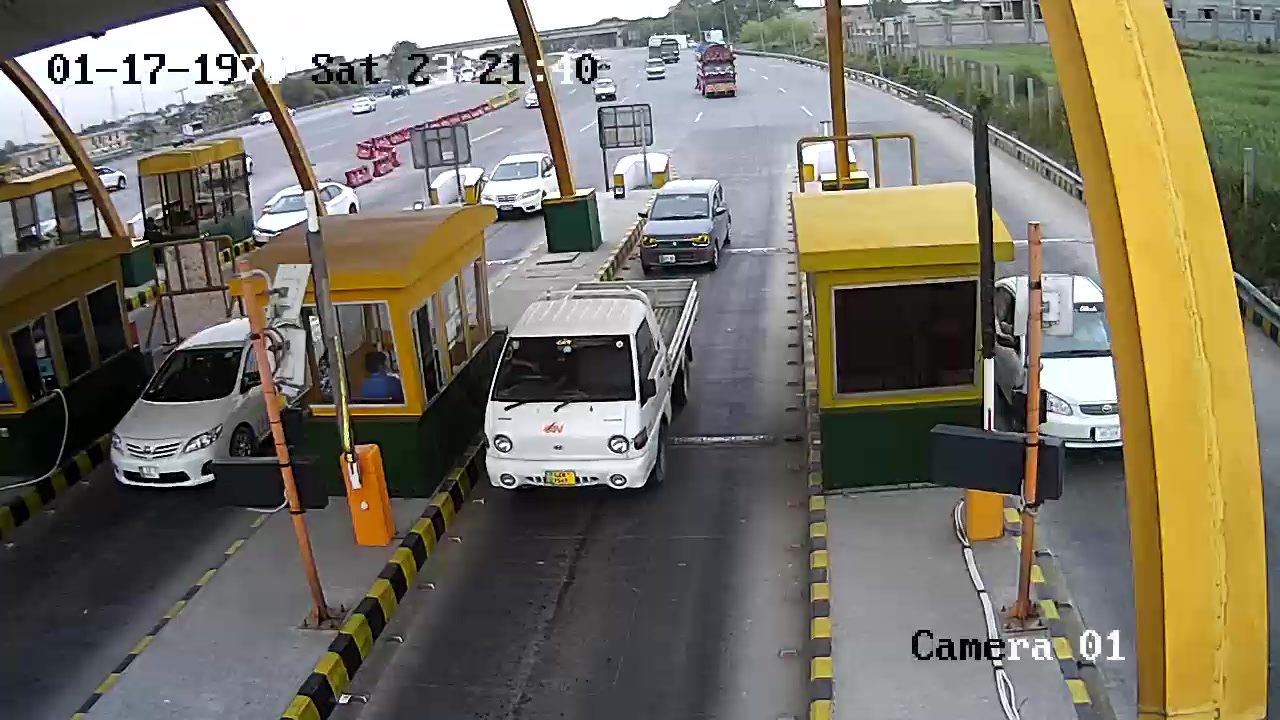F2: (478, 272, 702, 505)
